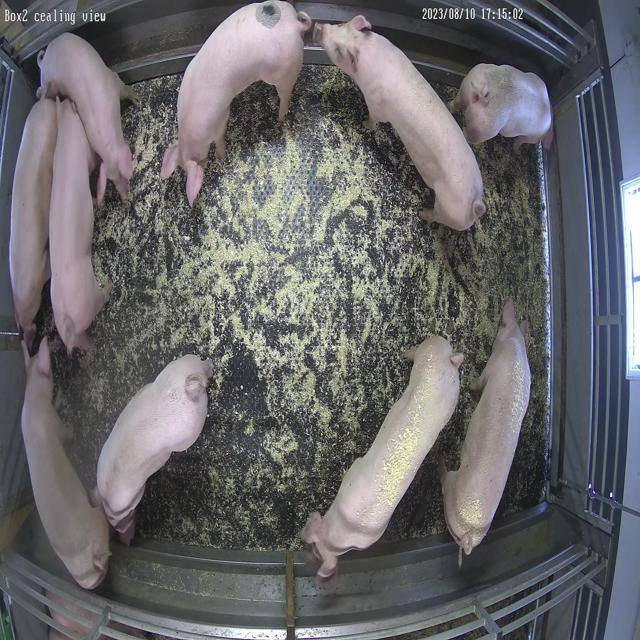Dirt: (452, 139, 551, 521)
Pig: (303, 337, 463, 580), (316, 15, 487, 230), (161, 1, 312, 204), (443, 300, 532, 556), (21, 342, 109, 590), (98, 355, 213, 542), (38, 32, 137, 198), (48, 99, 109, 352), (10, 98, 57, 344), (450, 64, 553, 150)
